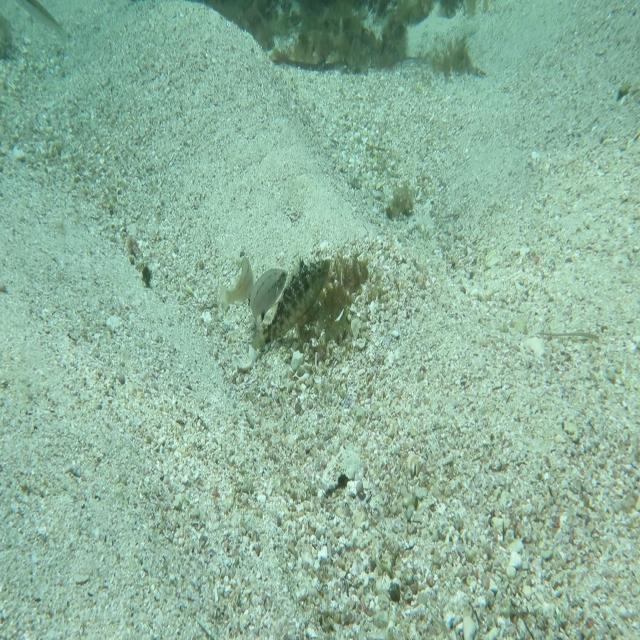Coris_julis_female: (11, 0, 76, 58)
ROLL: (248, 250, 334, 358)
female: (250, 266, 288, 326)
nest: (277, 246, 374, 366)
other_fish: (215, 252, 256, 324)
